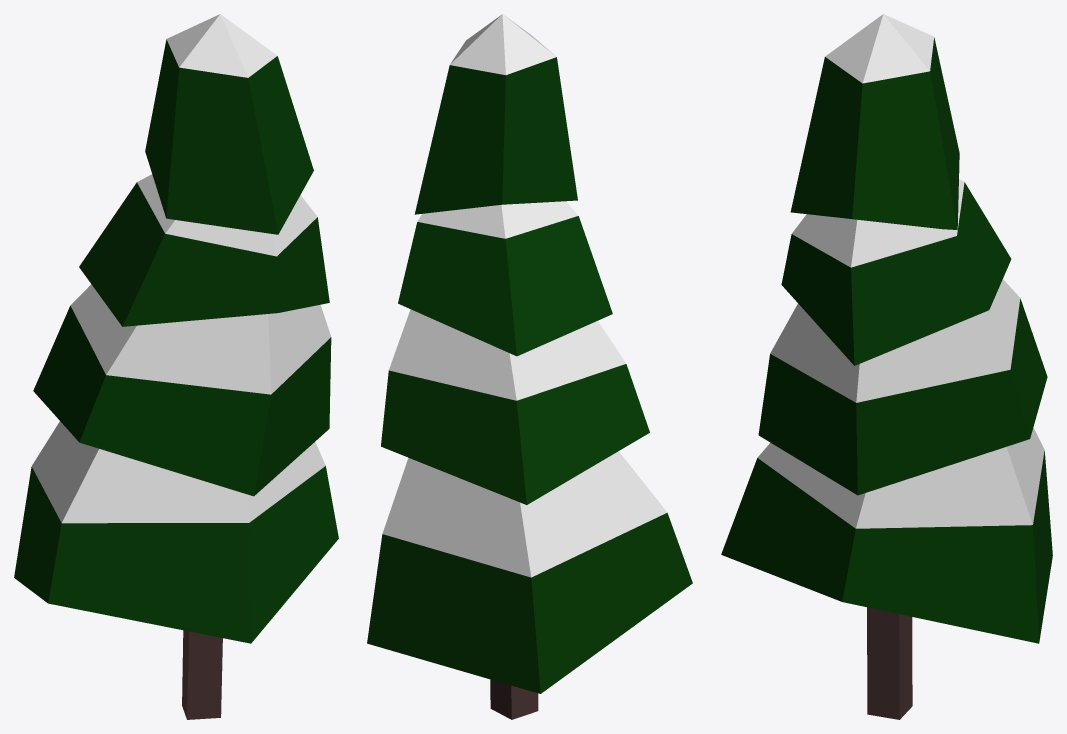
File: DarkWoodDecorationSmallXMasTree1.fbx
The picture shows the model from 3 angles, left to right: view 1: azimuth 30°, elevation 25°; view 2: azimuth 150°, elevation 25°; view 3: azimuth 270°, elevation 25°; orthographic projection. The views are drawn at different scales.
Parts seen in each view (by area): view 1: Canopy, Trunk; view 2: Canopy, Trunk; view 3: Canopy, Trunk.
Boxes of the visible parts, x1=… form: Canopy: x1=14, y1=14, x2=338, y2=643; Trunk: x1=182, y1=630, x2=222, y2=719; Canopy: x1=367, y1=14, x2=692, y2=693; Trunk: x1=490, y1=679, x2=538, y2=719; Canopy: x1=721, y1=14, x2=1052, y2=643; Trunk: x1=867, y1=607, x2=912, y2=719.
Size of the model in its own units: 260 by 617 by 263.
